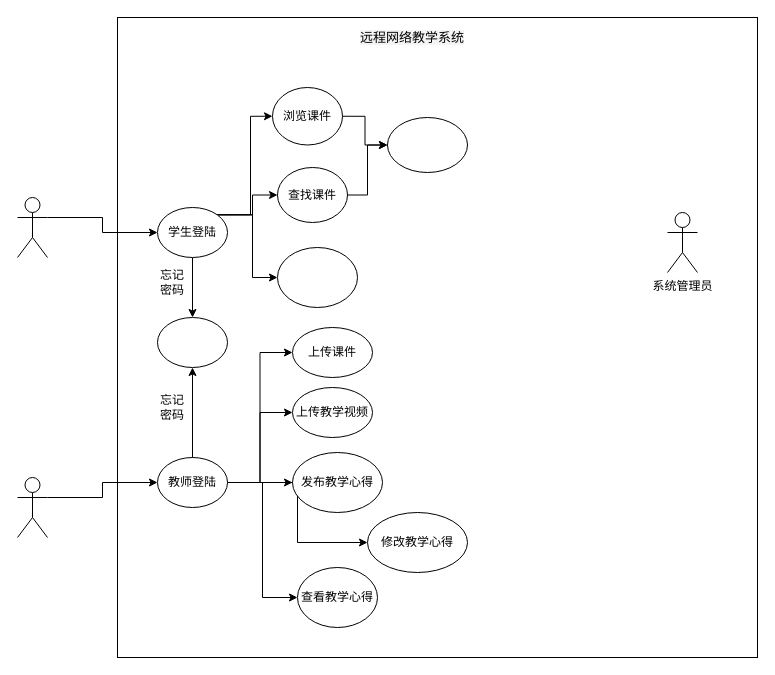
Some shapes in this 775 by 675 pixel diagram are drawn without their labels. Here are the shapes that lost their labels. From the top down, the centre of each, then its label:
At (x=427, y=144): "下载课件".
At (x=32, y=227): "学生".
At (x=317, y=277): "观看教学视频".
At (x=192, y=342): "找回密码".
At (x=32, y=507): "教师".
